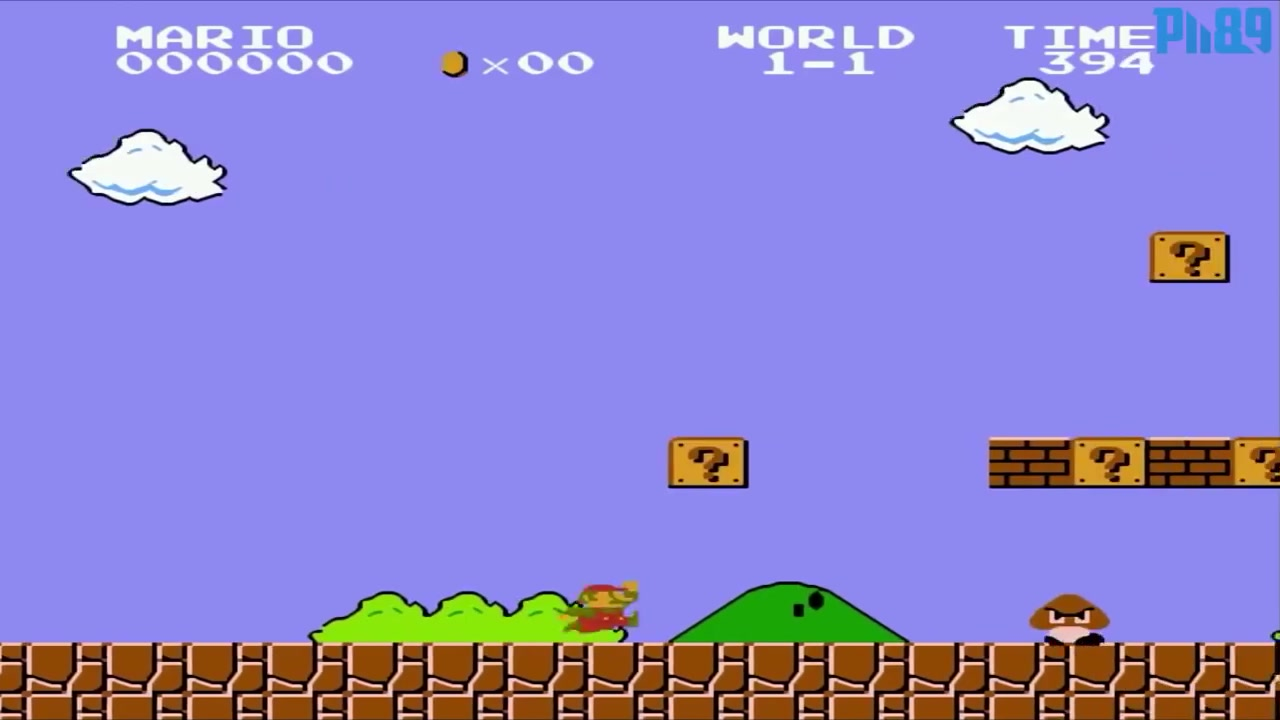mario: (549, 570, 645, 634)
